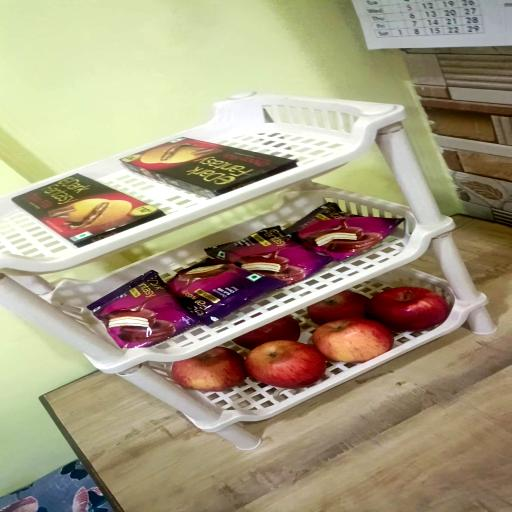Apple: (245, 339, 326, 389), (312, 318, 394, 363), (366, 287, 449, 330), (169, 347, 248, 391), (233, 315, 301, 350), (307, 290, 369, 325)
Choco Fills: (12, 174, 165, 247), (120, 137, 297, 198)
Choco Pie: (87, 270, 200, 348), (206, 226, 330, 287), (167, 259, 278, 324), (293, 203, 402, 260)
